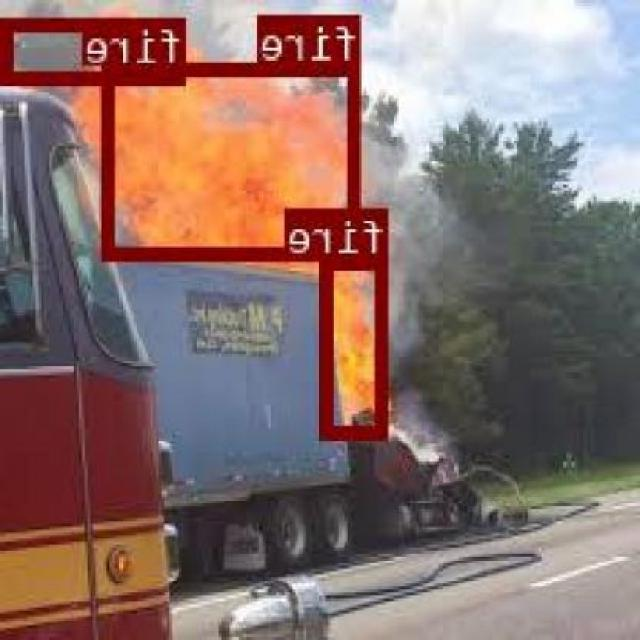Fire: (105, 61, 362, 257), (324, 254, 390, 436), (4, 15, 188, 80)
